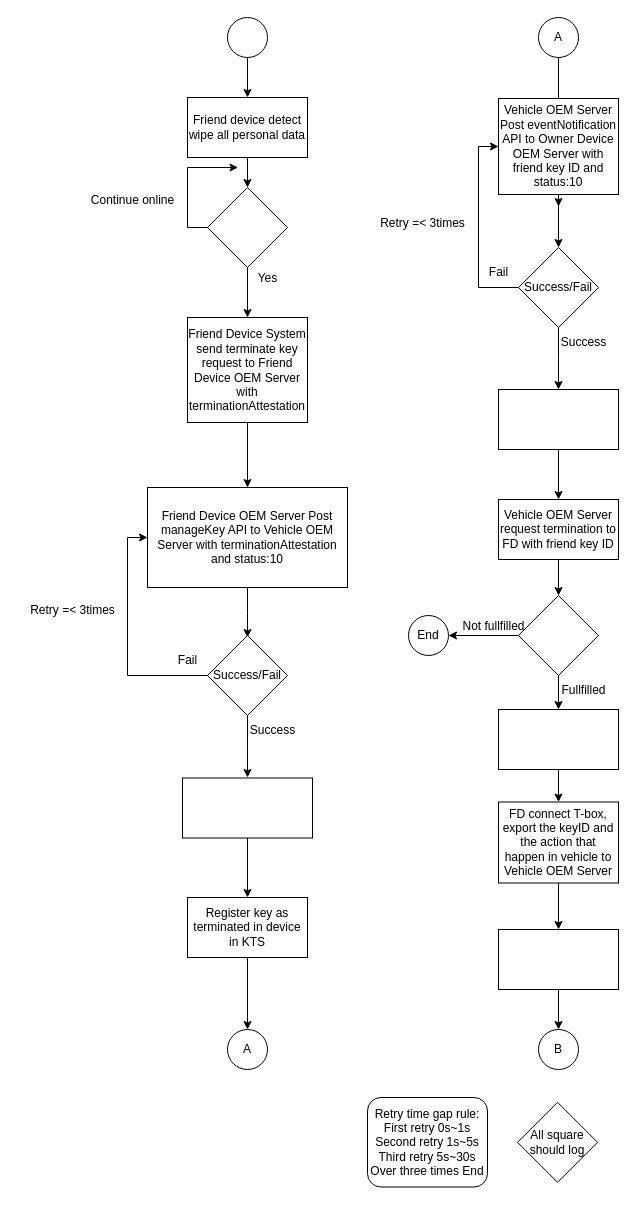
Some shapes in this 636 by 1205 pixel diagram are drawn without their labels. The centre of each missing label's shape, as x and y in pixels:
Device online?: (247,227)
FD command delete slot digital key: (558,739)
Owner Device OEM Server response to Vehicle OEM Server: (558,419)
Register key as terminated in vehicle in KTS: (558,959)
Start: (247,37)
Termination conditions: (558,635)
Vehicle OEM Server acknowledging deletion response to Friend Device OEM Server: (247,807)
